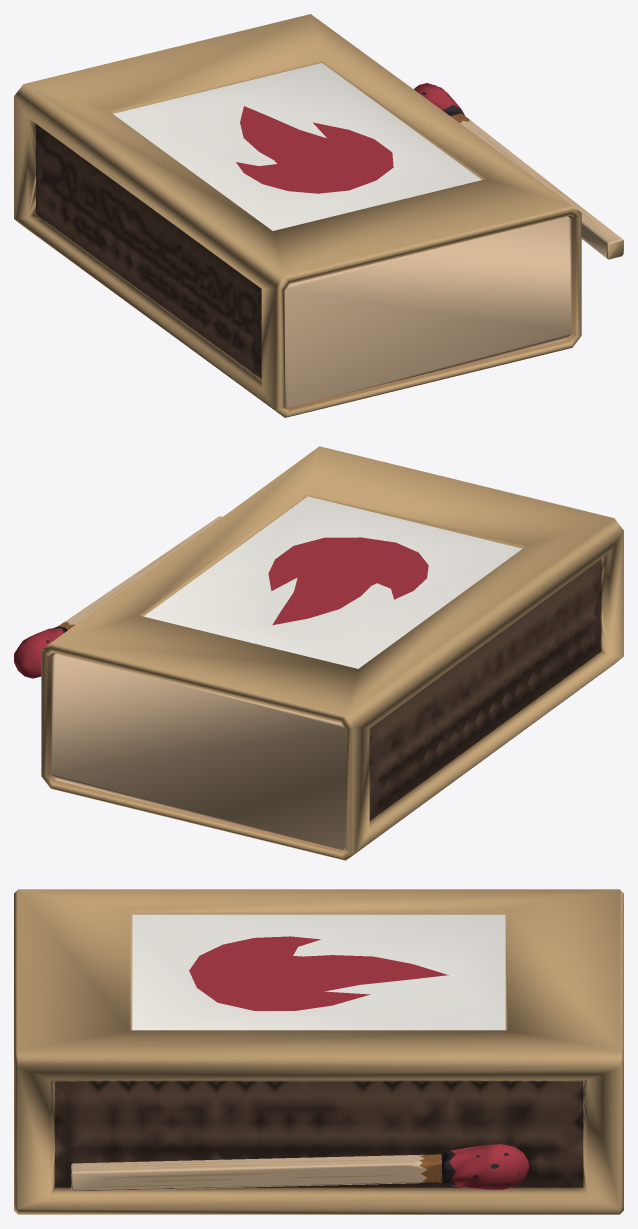
File: Caja_Cerillo.glb
3 views of the same model, one above another, from view 1: azimuth 30°, elevation 25°; view 2: azimuth 150°, elevation 25°; view 3: azimuth 270°, elevation 25° (orthographic). The views are drawn at different scales.
Visible parts, largest first — view 1: cerillo y caja; view 2: cerillo y caja; view 3: cerillo y caja.
Part boxes in pixels (x1=…): cerillo y caja: x1=14, y1=14, x2=623, y2=417; cerillo y caja: x1=14, y1=446, x2=623, y2=860; cerillo y caja: x1=14, y1=889, x2=623, y2=1214.
Size of the model in its own units: 0.1461 by 0.0522 by 0.1763.
